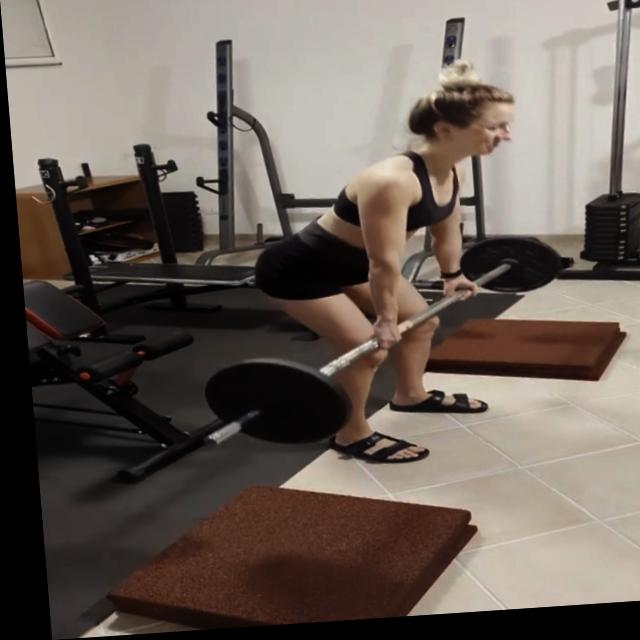barbell: (185, 356, 350, 460)
